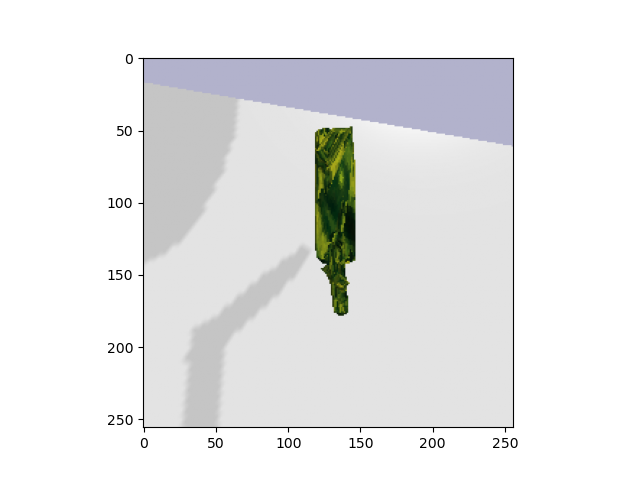v249b387_108: (302, 118, 371, 319)
